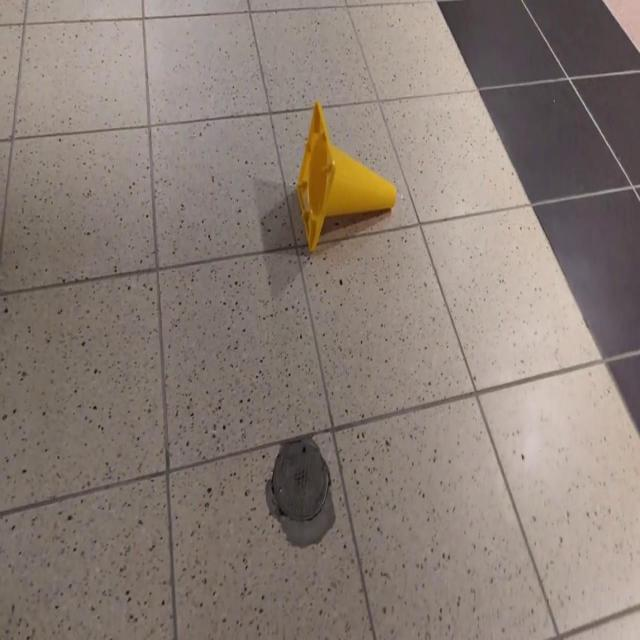frc_cone: (296, 100, 397, 246)
